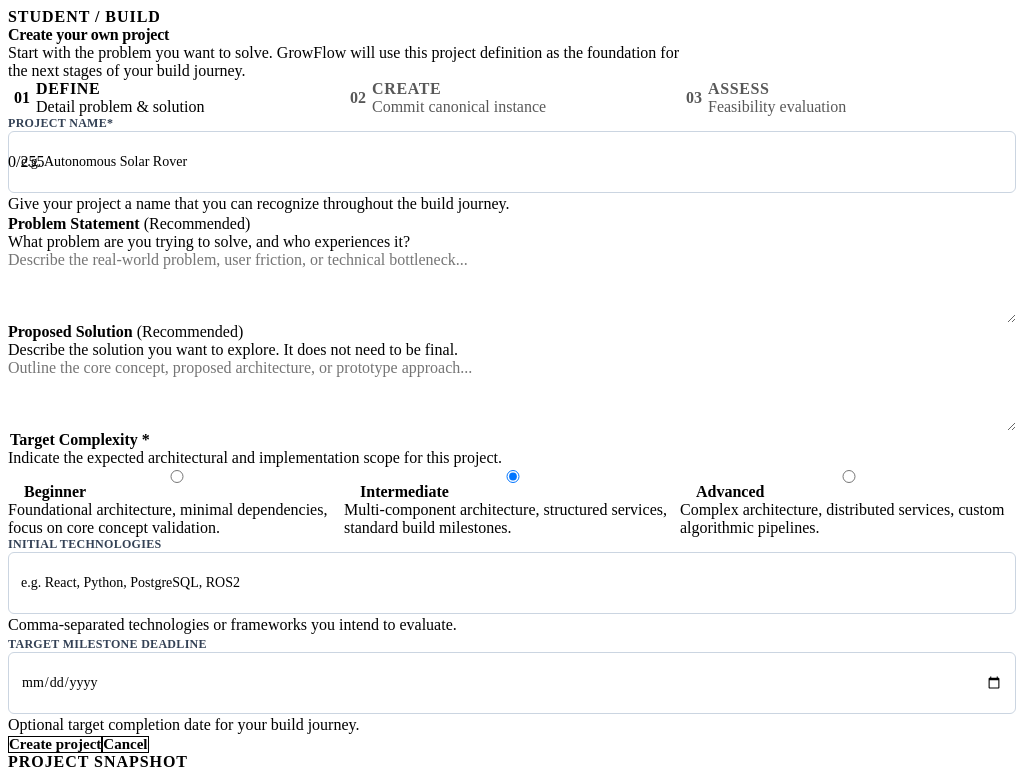
it: S03 — Student Project Create (/student/projects/new) › 8 & 9. prevents duplicate submission while request is in-flight and displays loading state
This screenshot has width=1024, height=768.
Type "Concurrent Test Project" into the field labelled "Project Name *" at (512, 162), box [8, 131, 1016, 193]
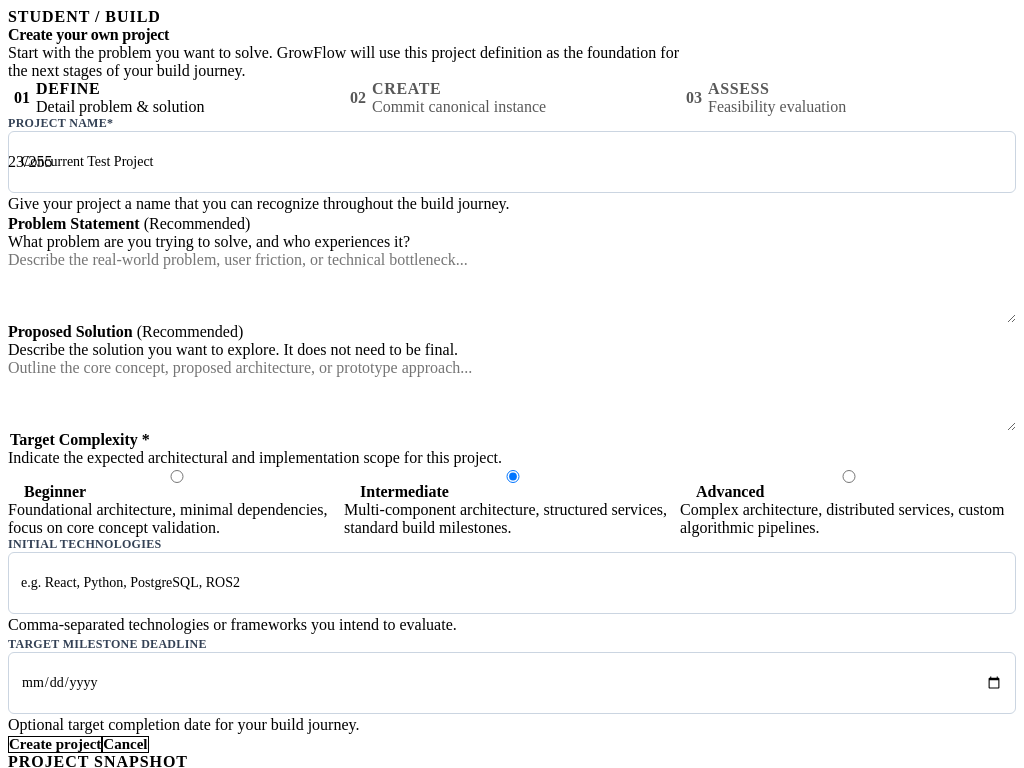
Click the button "Create project" at (55, 745), box [8, 736, 102, 753]
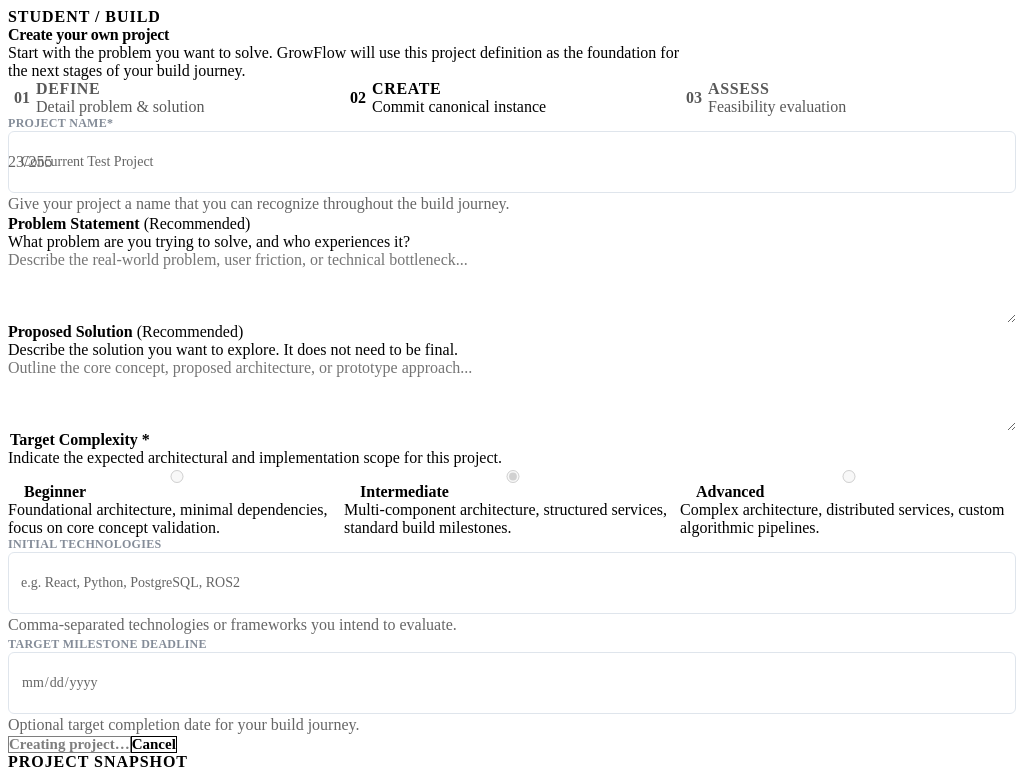
Expected: the button "Creating project…" is shown
Expected: the button "Creating project…" is disabled
// Secondary click should be blocked
Click the button "Creating project…" at (69, 745), box [8, 736, 131, 753]
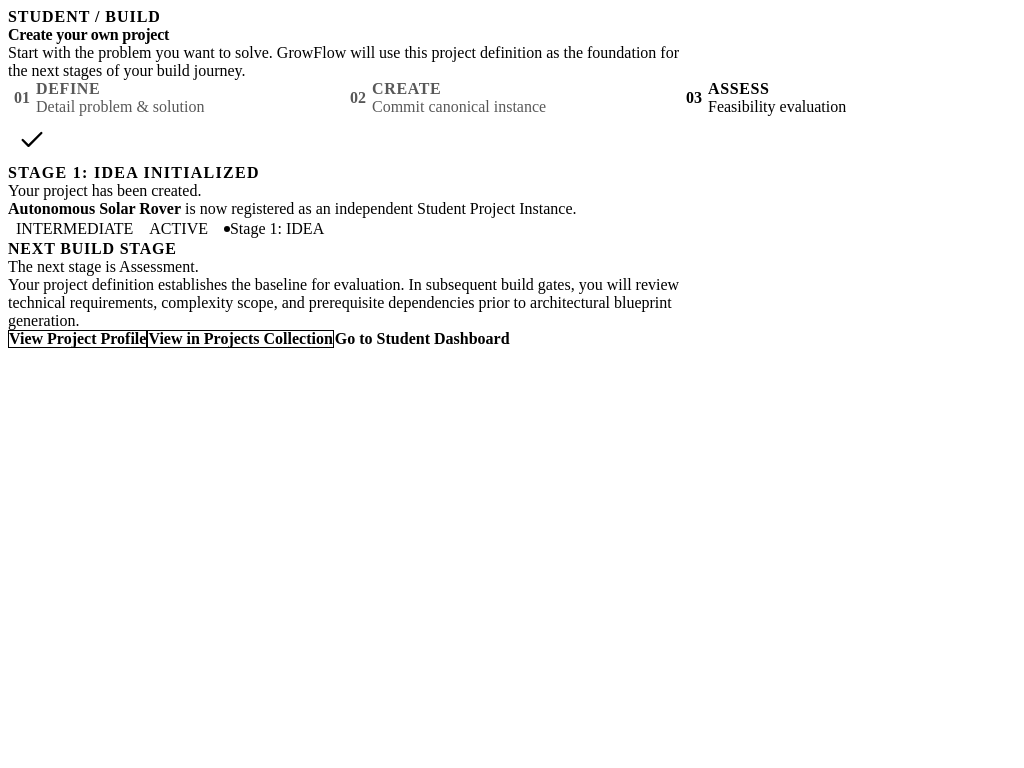
Expected: the heading "Your project has been created." is shown, [8, 182, 201, 199]
